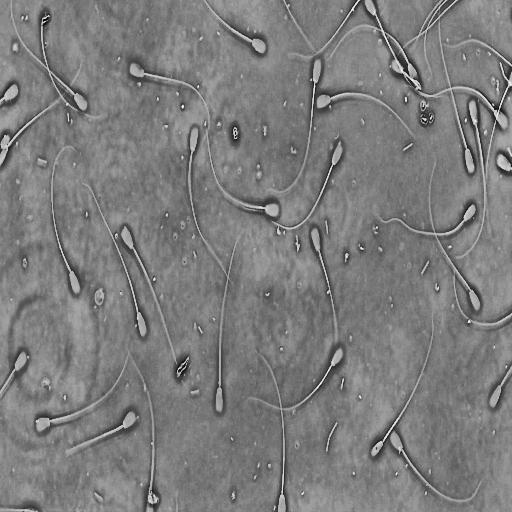dirt-particles: (174, 352, 192, 381), (231, 123, 240, 144)
folded-tail: (376, 21, 421, 90)
loose-tail: (289, 0, 363, 61), (452, 263, 512, 329), (437, 35, 512, 69), (423, 0, 450, 68)
normal: (80, 180, 150, 341), (425, 153, 486, 318), (369, 310, 435, 461), (8, 0, 91, 117), (34, 342, 135, 435), (183, 122, 237, 293), (264, 54, 325, 201), (118, 221, 179, 367), (201, 117, 281, 218), (126, 58, 213, 150), (267, 136, 345, 234), (240, 342, 344, 415), (436, 0, 477, 180), (389, 428, 483, 503), (452, 93, 490, 264), (328, 24, 421, 90), (213, 226, 244, 420), (313, 88, 418, 143), (49, 141, 83, 299), (405, 83, 510, 133), (62, 406, 139, 462), (376, 200, 478, 242), (310, 224, 339, 371), (202, 0, 270, 61), (388, 54, 423, 91)
proximal-droplet: (219, 380, 221, 387)
